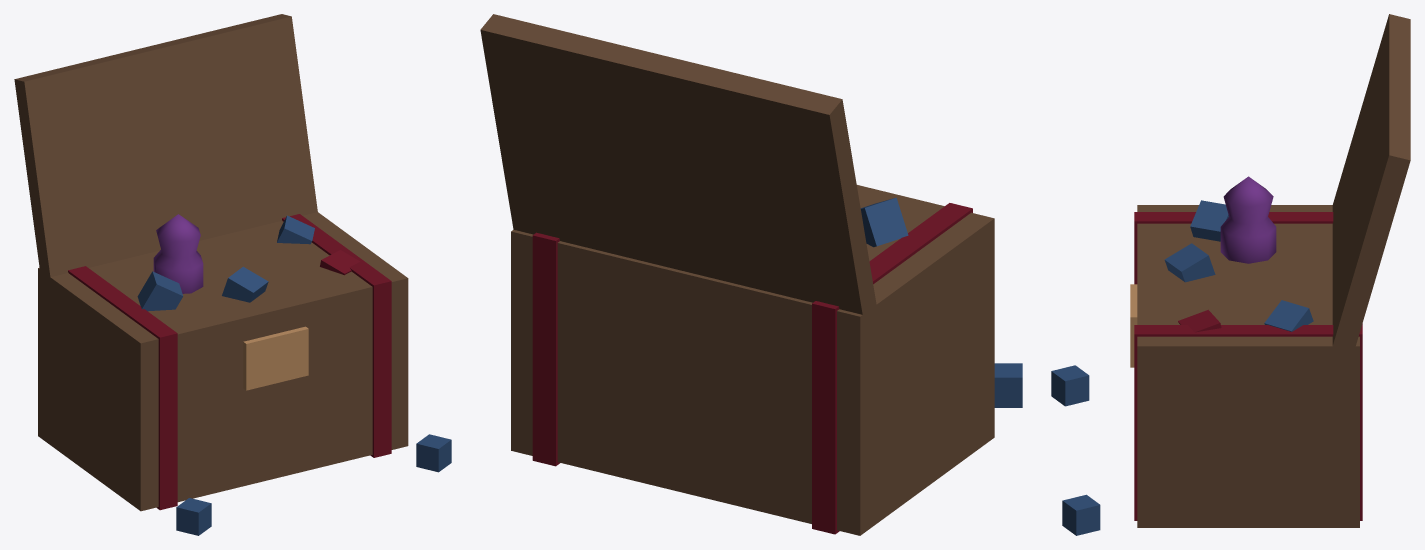
The model's file is toy_chest.glb.
3 renders of one model, left to right at view 1: azimuth 30°, elevation 25°; view 2: azimuth 150°, elevation 25°; view 3: azimuth 270°, elevation 25°, orthographic. The views are drawn at different scales.
Visible parts, largest first — view 1: toy_chest; view 2: toy_chest; view 3: toy_chest.
Part boxes in pixels (<box>): toy_chest: <box>14,14,451,535</box>; toy_chest: <box>480,14,1022,535</box>; toy_chest: <box>1051,14,1410,535</box>.
Bounding box in the file's own units: 0.6342 × 0.7434 × 0.6452.
